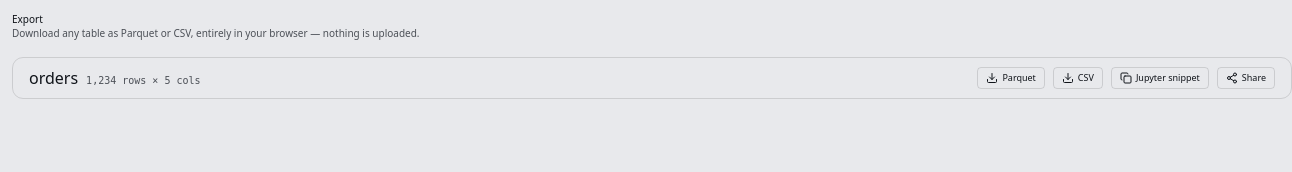
ExportModule › copies a Jupyter snippet to the clipboard and shows a confirmation
The width and height of the screenshot is (1292, 172).
Click the button "Jupyter snippet" at (1160, 78), box [1111,67,1209,89]
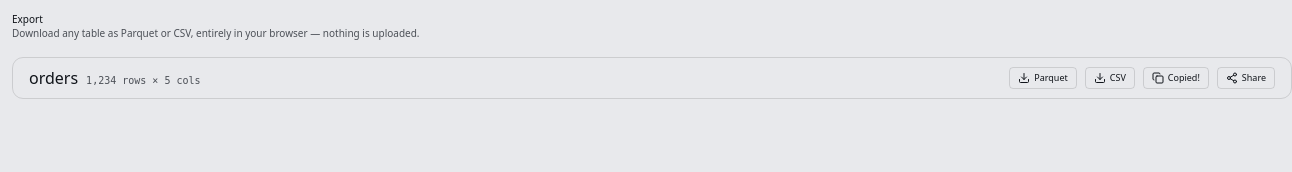
Result: the button "Copied!" is shown at [1143,67,1209,89]
